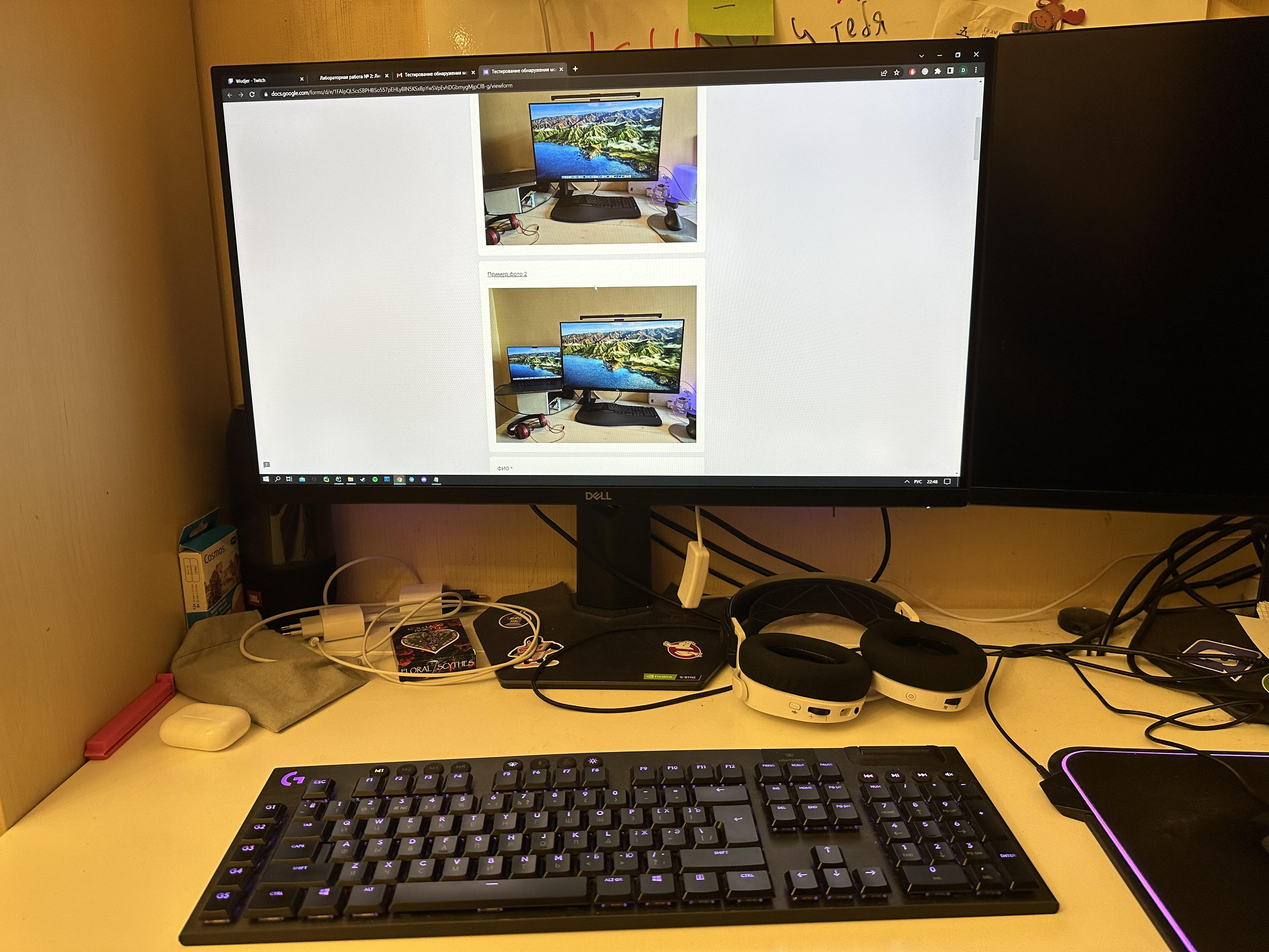monitor: (203, 31, 980, 510), (818, 0, 1269, 530)
